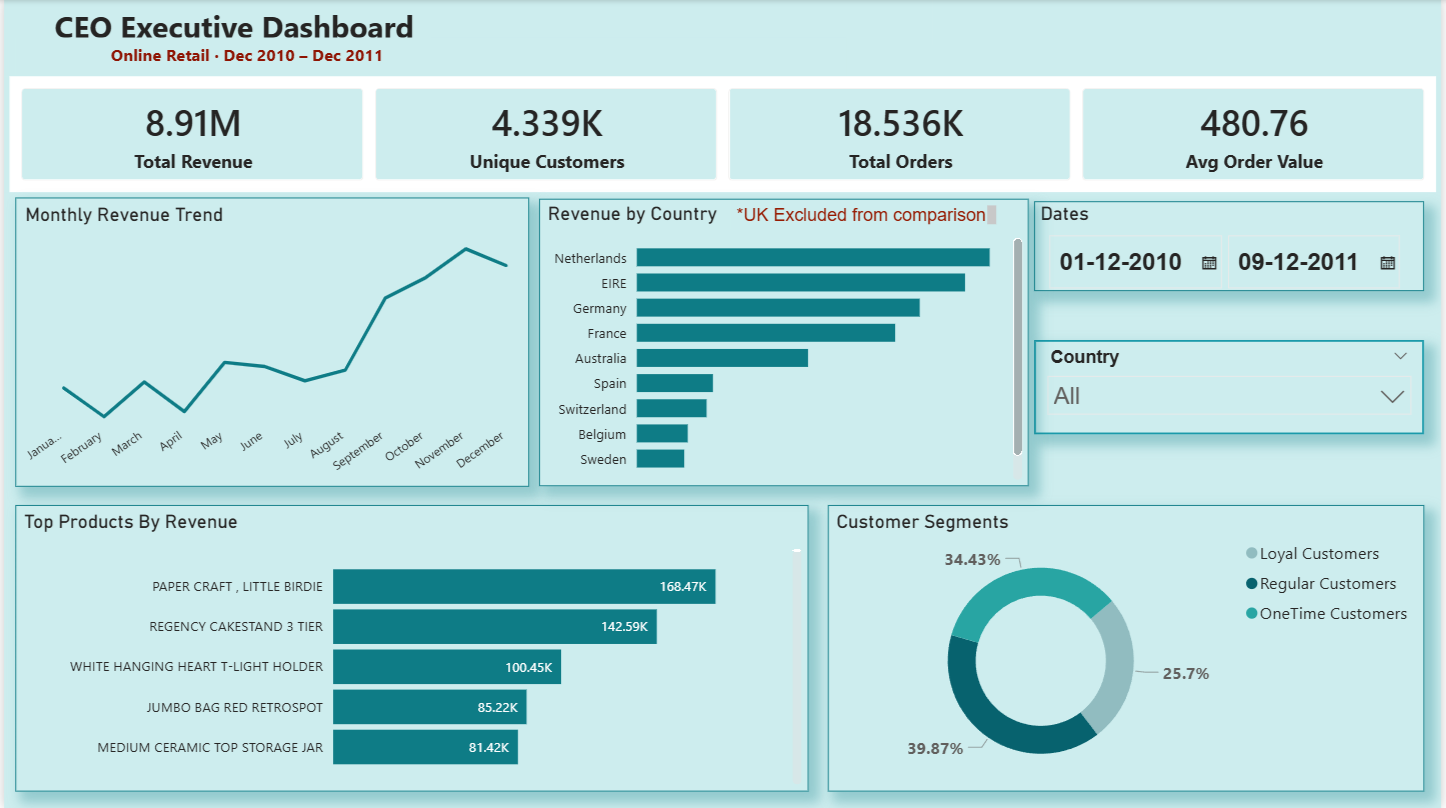

Layout of this report page (visuals, bound fields, positions):
{"tool":"powerbi","page":{"name":"Page 1","canvas":[1280,720],"ordinal":0},"visuals":[{"type":"textbox","box":[14.1,0,387.3,67.6],"z":0,"group":"g2"},{"type":"cardVisual","fields":{"Data":["Sum(online_retail_db retail.Revenue)","Count(online_retail_db retail.CustomerID)","Count(online_retail_db retail.InvoiceNo)","retail.Avg Order Value"]},"box":[9.9,67.6,1254.9,102.8],"z":0},{"type":"textbox","box":[77.4,33.8,280.3,33.8],"z":1000,"group":"g2"},{"type":"lineChart","title":"Monthly Revenue Trend","fields":{"Category":["online_retail_db retail.Invoice_Date.Variation.Date Hierarchy.Month"],"Y":["Sum(online_retail_db retail.Revenue)"]},"box":[9.7,176.1,458.4,258.2],"z":1000},{"type":"clusteredBarChart","title":"Revenue by Country","fields":{"Y":["Sum(online_retail_db retail.Revenue)"],"Category":["online_retail_db retail.Country"]},"box":[476.2,177.5,436.2,256.2],"z":2000,"group":"g1"},{"type":"clusteredBarChart","title":"Top Products By Revenue","fields":{"Y":["Sum(online_retail_db retail.Revenue)"],"Category":["online_retail_db retail.Description"]},"box":[10,450,706.2,255],"z":2000},{"type":"slicer","title":"Dates","fields":{"Values":["retail.Invoice_Date.Variation.Date Hierarchy.Month"]},"box":[918.1,178.6,347.5,80.8],"z":3000},{"type":"textbox","box":[650.8,181.7,250.9,31.4],"z":3007,"group":"g1"},{"type":"donutChart","title":"Customer Segments","fields":{"Y":["retail.Loyal Customers","retail.Regular Customers","retail.OneTime Customers"]},"box":[733.8,450,531.2,255],"z":4000},{"type":"slicer","fields":{"Values":["retail.Country"]},"box":[917.1,303.3,347.3,84.4],"z":5000},{"type":"group","id":"g1","title":"Group 1","box":[476.2,177.5,436.2,256.2],"z":6000},{"type":"group","id":"g2","title":"Group 2","box":[14.1,0,387.3,67.6],"z":7000}]}

Visuals, with their boxes in screenshot pixels (x1, y1, x2, y2), scaled from the page's 1280x720 canvas onto the 1446x808 screenshot:
textbox: {"x1": 16, "y1": 0, "x2": 453, "y2": 76}
cardVisual - Sum(online_retail_db retail.Revenue) x Count(online_retail_db retail.CustomerID): {"x1": 11, "y1": 76, "x2": 1429, "y2": 191}
textbox: {"x1": 87, "y1": 38, "x2": 404, "y2": 76}
"Monthly Revenue Trend" lineChart: {"x1": 11, "y1": 198, "x2": 529, "y2": 487}
"Revenue by Country" clusteredBarChart: {"x1": 538, "y1": 199, "x2": 1031, "y2": 487}
"Top Products By Revenue" clusteredBarChart: {"x1": 11, "y1": 505, "x2": 809, "y2": 791}
"Dates" slicer: {"x1": 1037, "y1": 200, "x2": 1430, "y2": 291}
textbox: {"x1": 735, "y1": 204, "x2": 1019, "y2": 239}
"Customer Segments" donutChart: {"x1": 829, "y1": 505, "x2": 1429, "y2": 791}
slicer - retail.Country: {"x1": 1036, "y1": 340, "x2": 1428, "y2": 435}
"Group 1" group: {"x1": 538, "y1": 199, "x2": 1031, "y2": 487}
"Group 2" group: {"x1": 16, "y1": 0, "x2": 453, "y2": 76}
